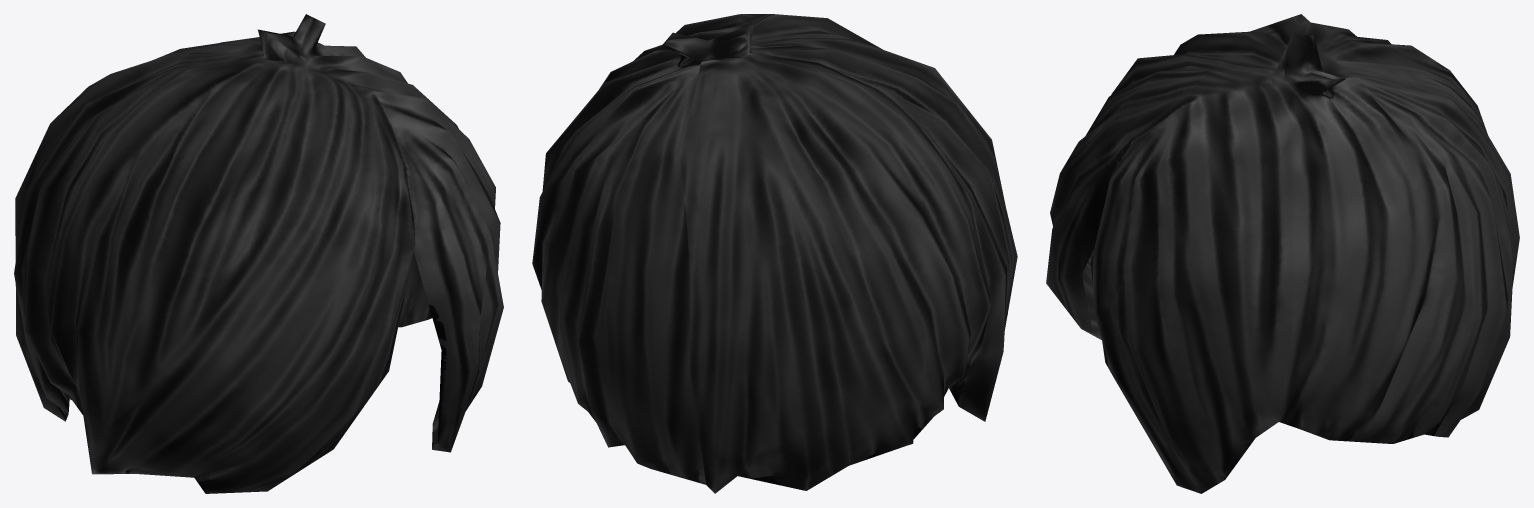
File: AF_M_hair_04.FBX
The picture shows the model from 3 angles, left to right: view 1: azimuth 30°, elevation 25°; view 2: azimuth 150°, elevation 25°; view 3: azimuth 270°, elevation 25°; orthographic projection. The views are drawn at different scales.
Visible parts, largest first — view 1: AF_M_hair_04; view 2: AF_M_hair_04; view 3: AF_M_hair_04.
Part boxes in pixels (x1=…): AF_M_hair_04: x1=14, y1=14, x2=503, y2=493; AF_M_hair_04: x1=532, y1=14, x2=1017, y2=493; AF_M_hair_04: x1=1046, y1=14, x2=1519, y2=493.
Bounding box in the file's own units: 765 × 709 × 757.
